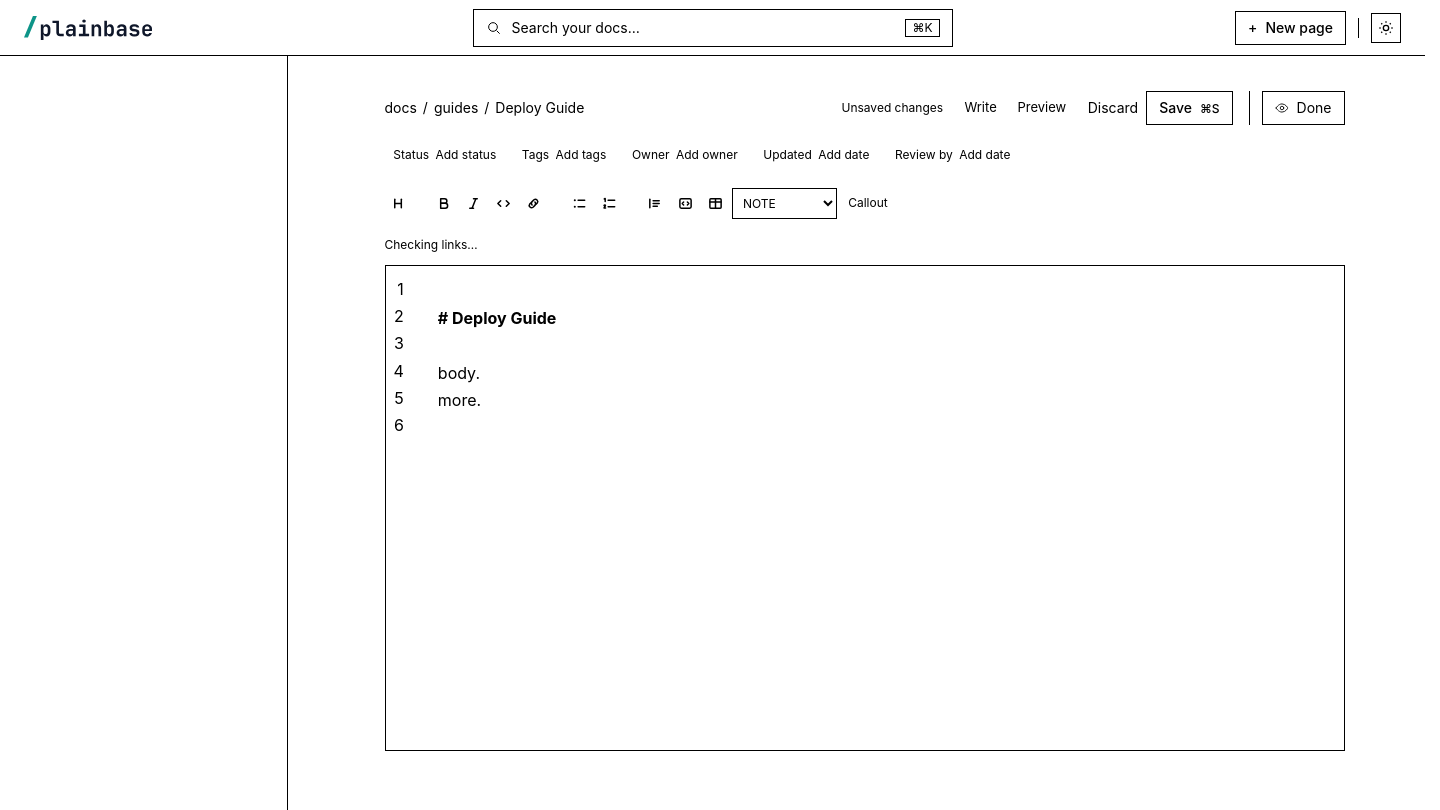
Test: W6 editor › a 202 degrade-to-proposal does NOT advance the saved baseline (Save stays enabled) and shows a non-"Saved" notice
The image size is (1440, 810).
Expected: the element with class "cm-editor" is shown, [394, 279, 556, 435]
Click the button "Save⌘S".
click(1189, 108)  # box [1146, 91, 1232, 125]
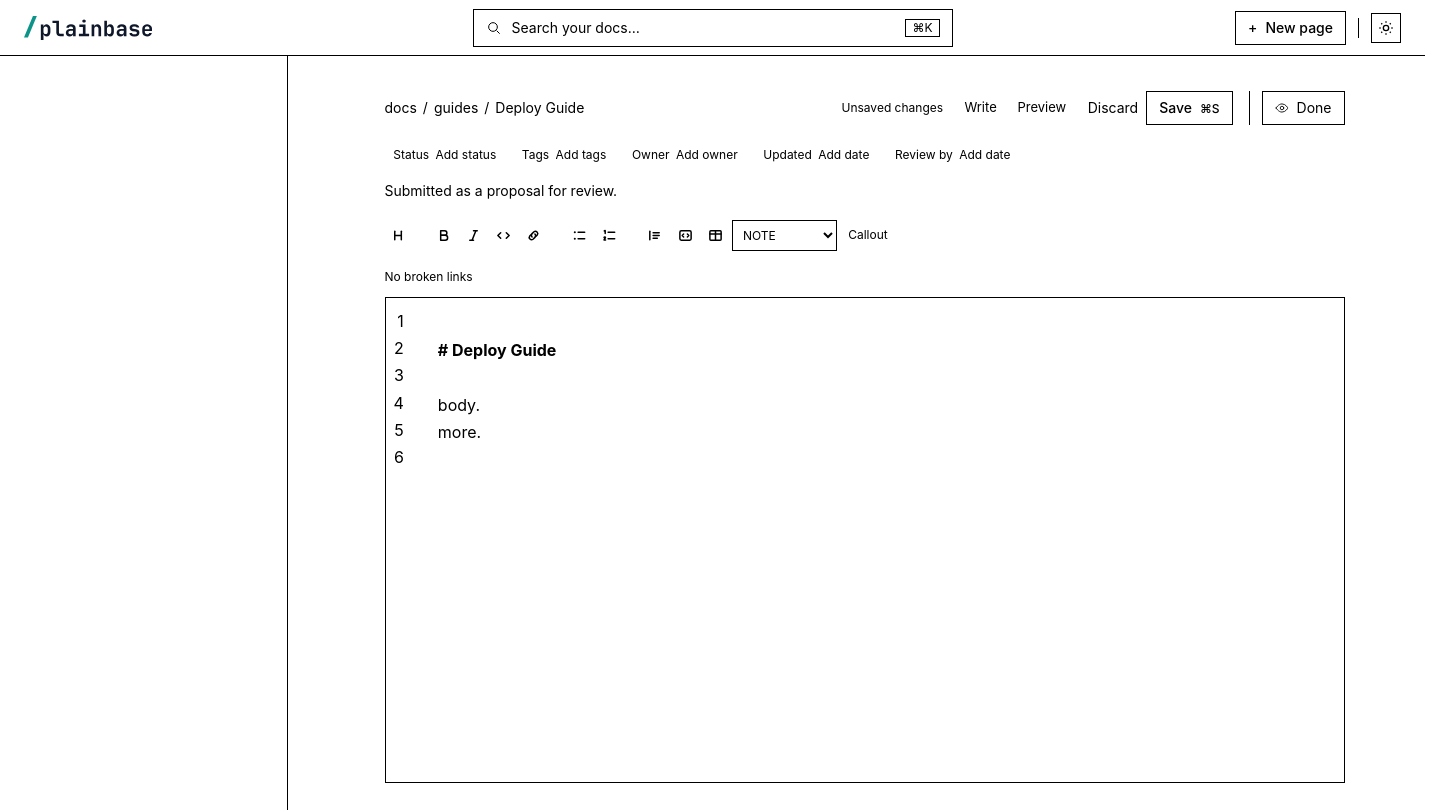
Expected: the text "Saved" is not shown
Result: the text "Submitted as a proposal for review." is shown at [384, 182, 617, 199]
